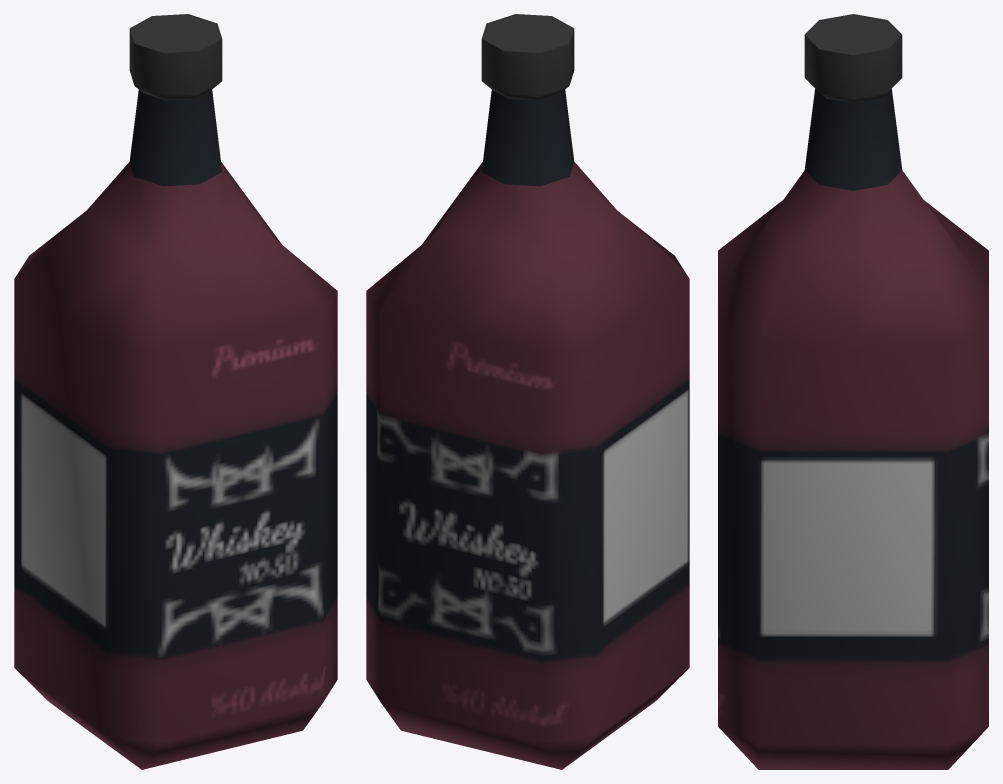
Rendered from Whiskey_02.fbx.
3 renders of one model, left to right at view 1: azimuth 30°, elevation 25°; view 2: azimuth 150°, elevation 25°; view 3: azimuth 270°, elevation 25°, orthographic.
Visible parts, largest first — view 1: Whiskey_02; view 2: Whiskey_02; view 3: Whiskey_02.
Boxes of the visible parts, <box> form: Whiskey_02: <box>14,14,337,769</box>; Whiskey_02: <box>366,14,689,769</box>; Whiskey_02: <box>718,14,988,769</box>.
Size of the model in its own units: 7.96 by 22.55 by 7.96.
